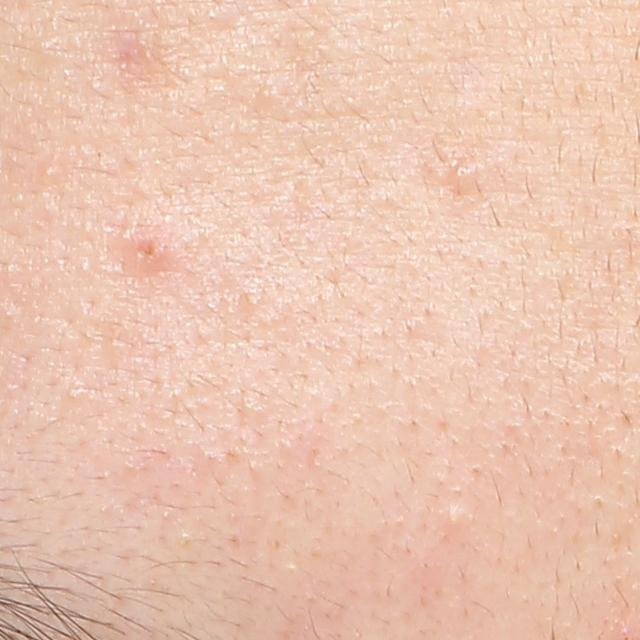comedo: (443, 503, 469, 530), (447, 161, 476, 185), (44, 163, 57, 178)
papule: (122, 224, 175, 279)
